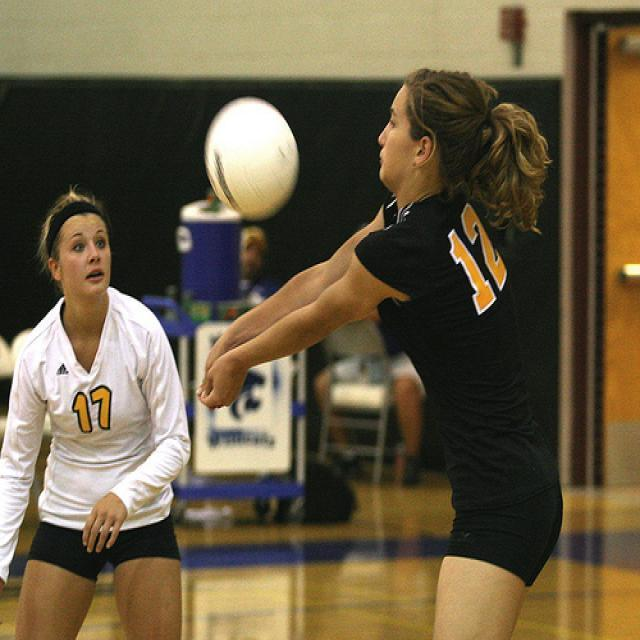volleyball: (204, 96, 298, 222)
